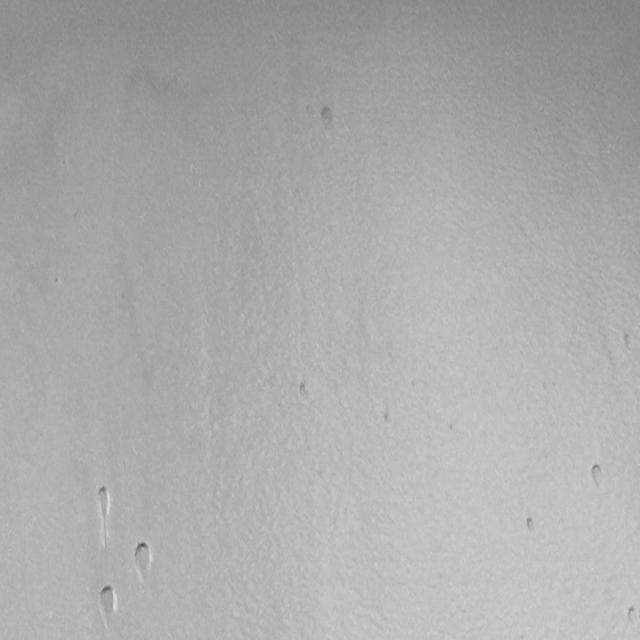pin holes: (90, 484, 114, 527), (132, 540, 155, 577), (97, 586, 121, 620), (587, 461, 609, 491), (314, 105, 337, 132), (295, 378, 313, 402), (624, 603, 640, 630), (621, 330, 638, 354), (522, 514, 538, 536), (380, 409, 394, 427), (52, 274, 65, 288)
